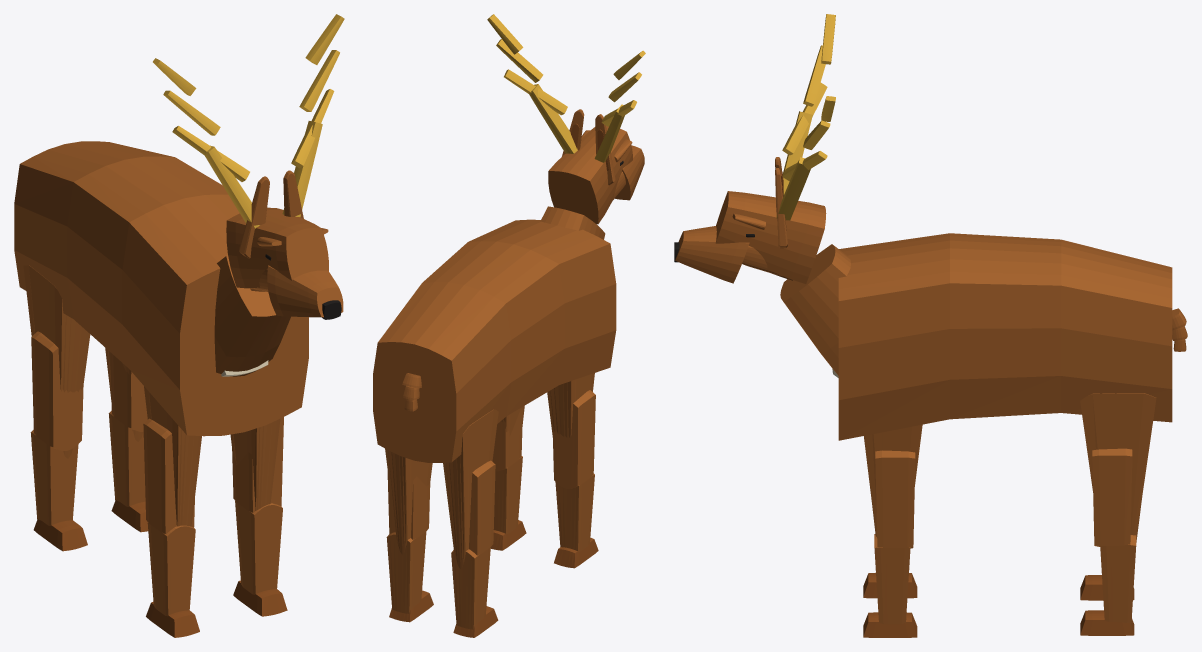
Rendered from terranova_hirsch.obj.
3 renders of one model, left to right at view 1: azimuth 30°, elevation 25°; view 2: azimuth 150°, elevation 25°; view 3: azimuth 270°, elevation 25°, orthographic. The views are drawn at different scales.
Parts seen in each view (by area): view 1: Körper, Vorderbein, Hinterbein, Hals, Kopf, Schultermasse, Keule, Geweihast, Schnauze, Vorderhuf, Geweihstange, Hinterhuf (+1 smaller); view 2: Körper, Hinterbein, Vorderbein, Keule, Kopf, Geweihast, Schultermasse, Geweihstange, Vorderhuf, Hinterhuf, Hals, Schnauze (+2 smaller); view 3: Körper, Hinterbein, Vorderbein, Kopf, Keule, Hals, Geweihast, Schnauze, Schultermasse, Hinterhuf, Vorderhuf, Geweihstange.
Boxes of the visible parts, bbox=[...] form: Körper: bbox=[14, 141, 308, 436]; Vorderbein: bbox=[143, 417, 283, 616]; Hinterbein: bbox=[30, 331, 147, 525]; Hals: bbox=[214, 255, 290, 376]; Kopf: bbox=[226, 207, 328, 288]; Schultermasse: bbox=[144, 386, 280, 526]; Keule: bbox=[23, 265, 143, 458]; Geweihast: bbox=[153, 14, 344, 181]; Schnauze: bbox=[267, 265, 343, 317]; Vorderhuf: bbox=[146, 580, 287, 637]; Geweihstange: bbox=[205, 121, 322, 228]; Hinterhuf: bbox=[33, 499, 148, 551]; Körper: bbox=[373, 219, 616, 462]; Hinterbein: bbox=[386, 460, 495, 629]; Vorderbein: bbox=[492, 390, 595, 551]; Keule: bbox=[385, 409, 498, 568]; Kopf: bbox=[548, 126, 632, 224]; Geweihast: bbox=[487, 14, 645, 126]; Schultermasse: bbox=[501, 373, 594, 438]; Geweihstange: bbox=[528, 84, 624, 162]; Vorderhuf: bbox=[490, 520, 598, 568]; Hinterhuf: bbox=[389, 590, 498, 637]; Hals: bbox=[540, 206, 605, 239]; Schnauze: bbox=[615, 145, 644, 200]; Körper: bbox=[838, 233, 1172, 440]; Hinterbein: bbox=[1092, 448, 1136, 625]; Vorderbein: bbox=[874, 450, 915, 624]; Kopf: bbox=[715, 191, 826, 283]; Keule: bbox=[1080, 393, 1156, 542]; Hals: bbox=[780, 244, 850, 375]; Geweihast: bbox=[782, 14, 835, 181]; Schnauze: bbox=[675, 226, 749, 283]; Schultermasse: bbox=[864, 424, 922, 536]; Hinterhuf: bbox=[1080, 575, 1134, 635]; Vorderhuf: bbox=[863, 572, 917, 637]; Geweihstange: bbox=[776, 111, 812, 220].
Size of the model in its own units: 0.6922 by 2.12 by 1.77.
